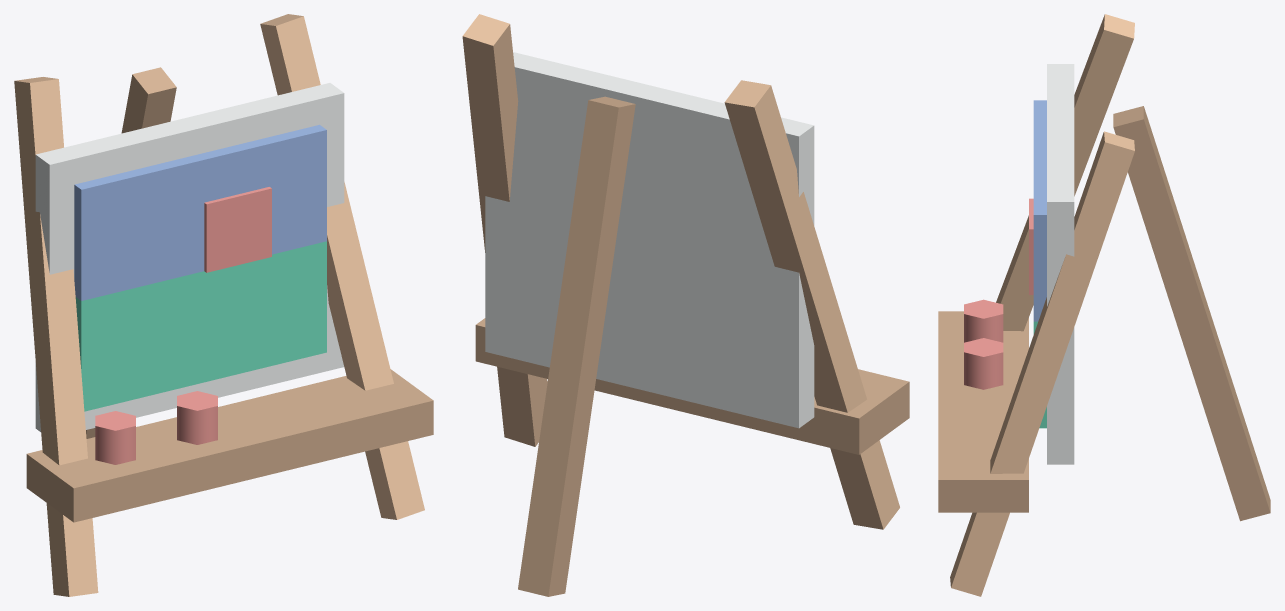
File: easelTabletop.glb
The picture shows the model from 3 angles, left to right: view 1: azimuth 30°, elevation 25°; view 2: azimuth 150°, elevation 25°; view 3: azimuth 270°, elevation 25°; orthographic projection. The views are drawn at different scales.
Visible parts, largest first — view 1: easelTabletop; view 2: easelTabletop; view 3: easelTabletop.
Boxes of the visible parts, x1=… form: easelTabletop: x1=14, y1=14, x2=433, y2=596; easelTabletop: x1=462, y1=14, x2=909, y2=596; easelTabletop: x1=938, y1=14, x2=1270, y2=596.
Size of the model in its own units: 0.22 by 0.267 by 0.1834.
